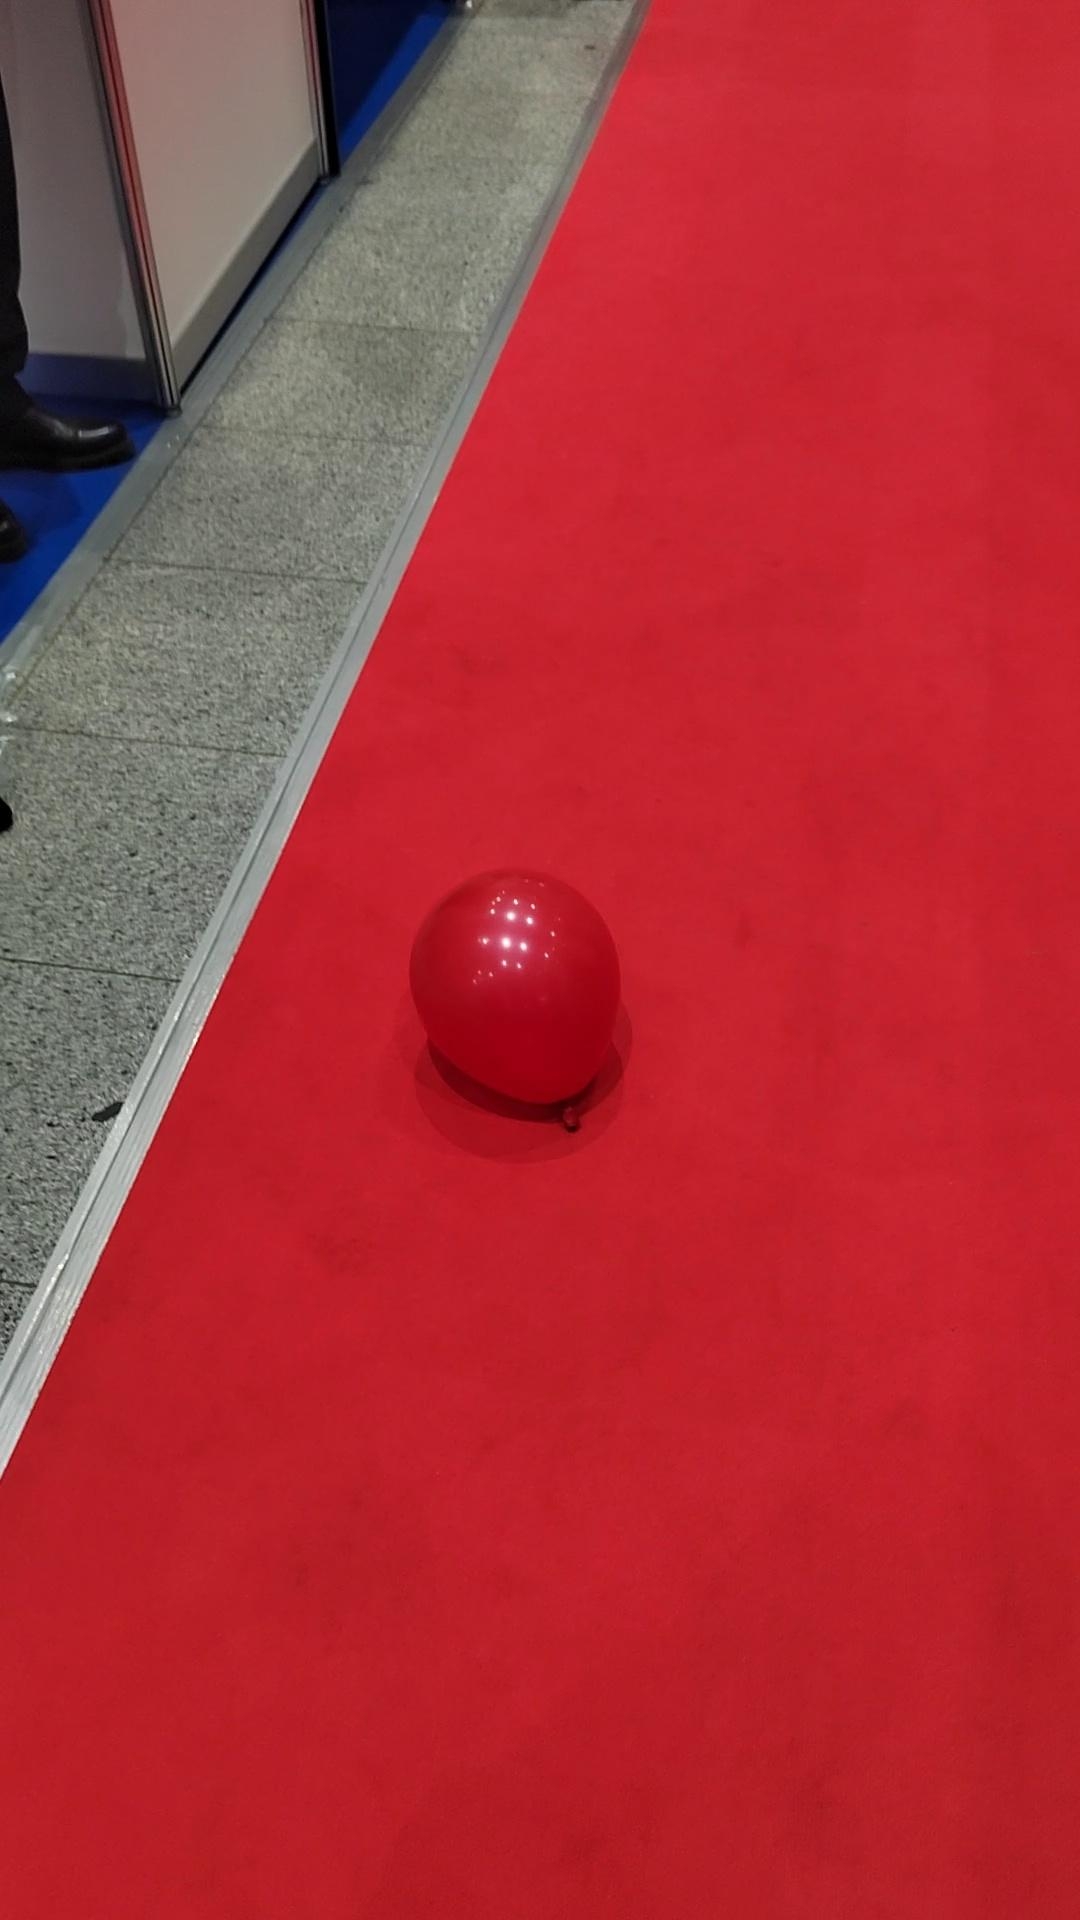red: (407, 861, 622, 1105)
